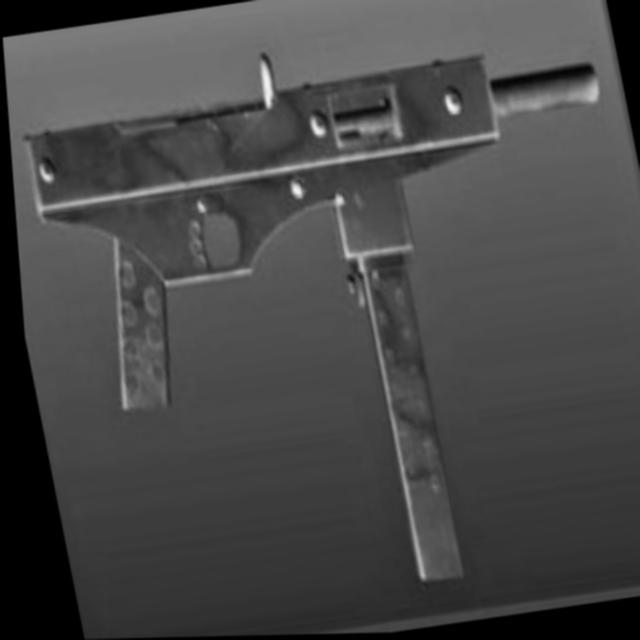weapon: (4, 7, 640, 630)
